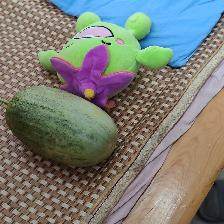gua: (12, 96, 114, 158)
